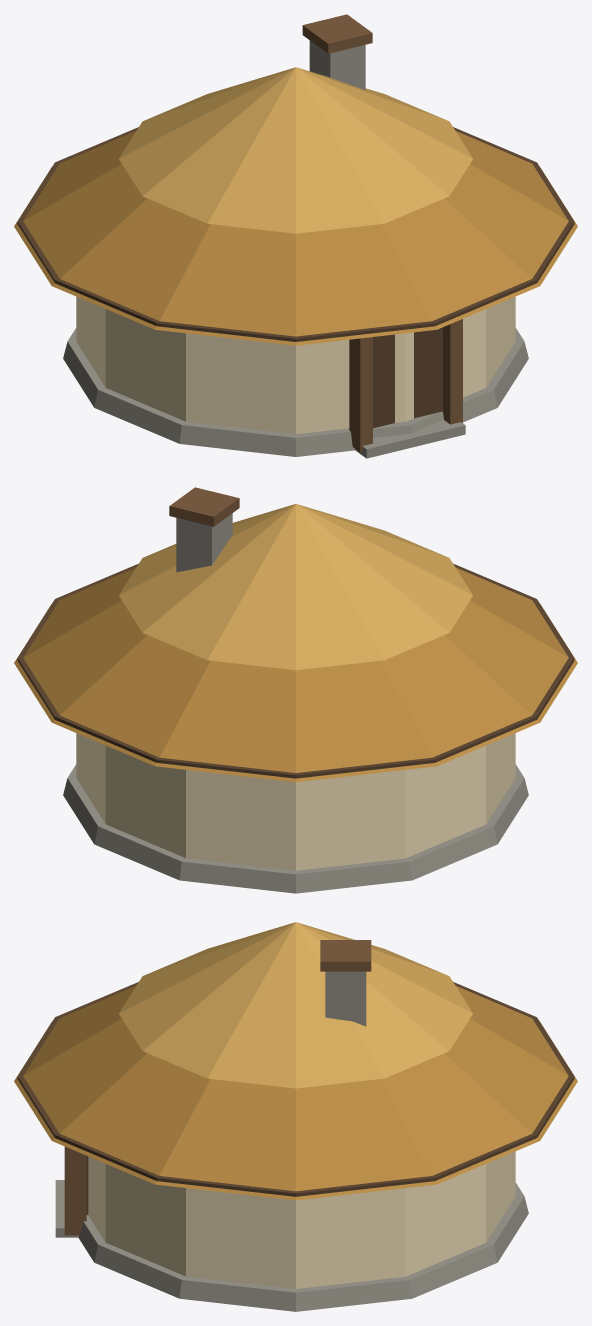
File: hut-1.glb
The picture shows the model from 3 angles, top to bottom: view 1: azimuth 30°, elevation 25°; view 2: azimuth 150°, elevation 25°; view 3: azimuth 270°, elevation 25°; orthographic projection.
Visible parts, largest first — view 1: hut-1; view 2: hut-1; view 3: hut-1.
Boxes of the visible parts, x1,y1,x2,y2 form: hut-1: (14, 14, 577, 458); hut-1: (14, 487, 577, 893); hut-1: (14, 922, 577, 1311).
Bounding box in the file's own units: 7.7 × 4.45 × 7.7.
